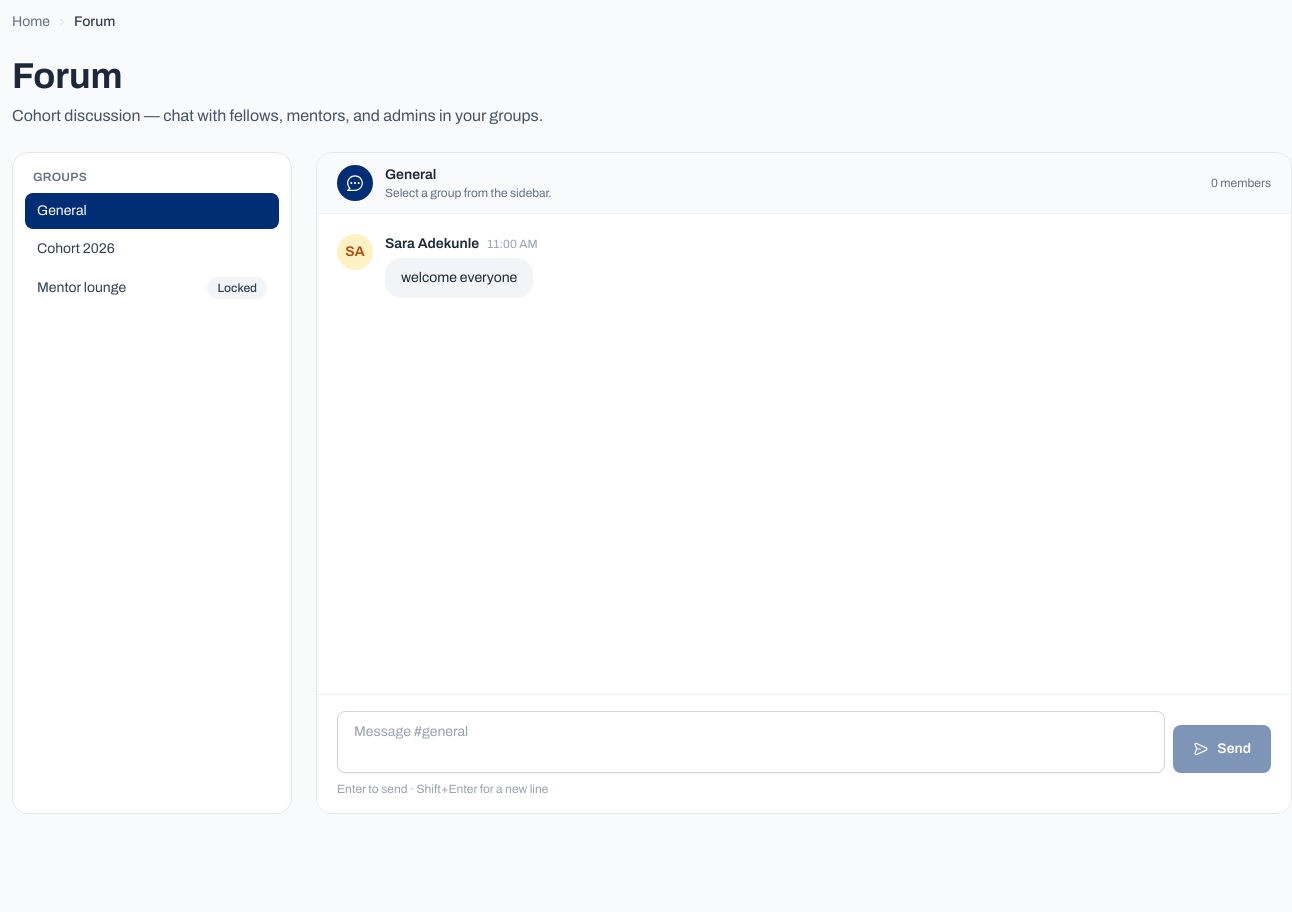
Test: ForumChat › appends sent messages to the bottom and clears the draft
Type "hi from Ada" into the text box with placeholder "Message #general" at (751, 742), box [337, 711, 1165, 773]
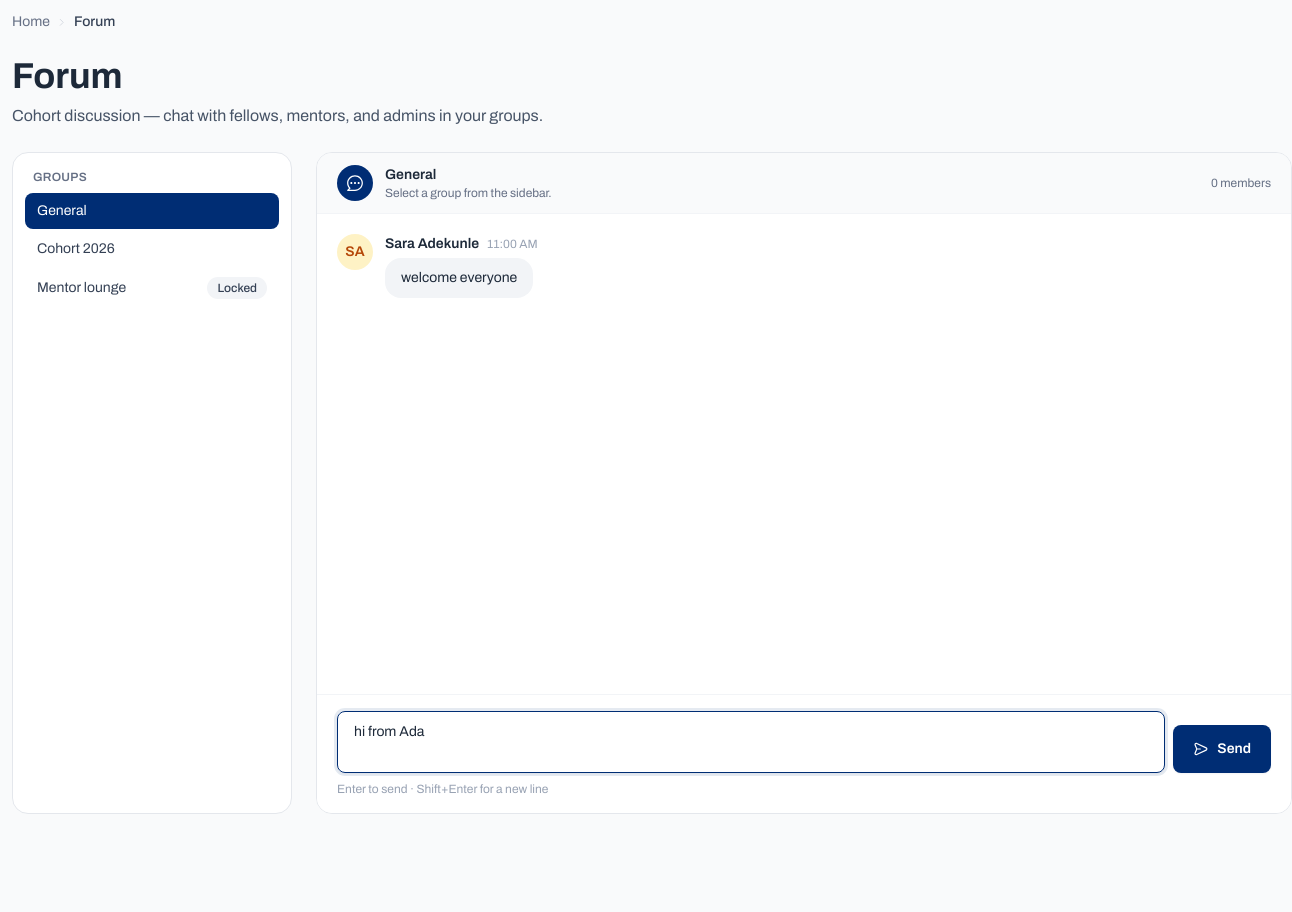
Click the button "Send" at (1222, 749), box [1173, 725, 1271, 773]
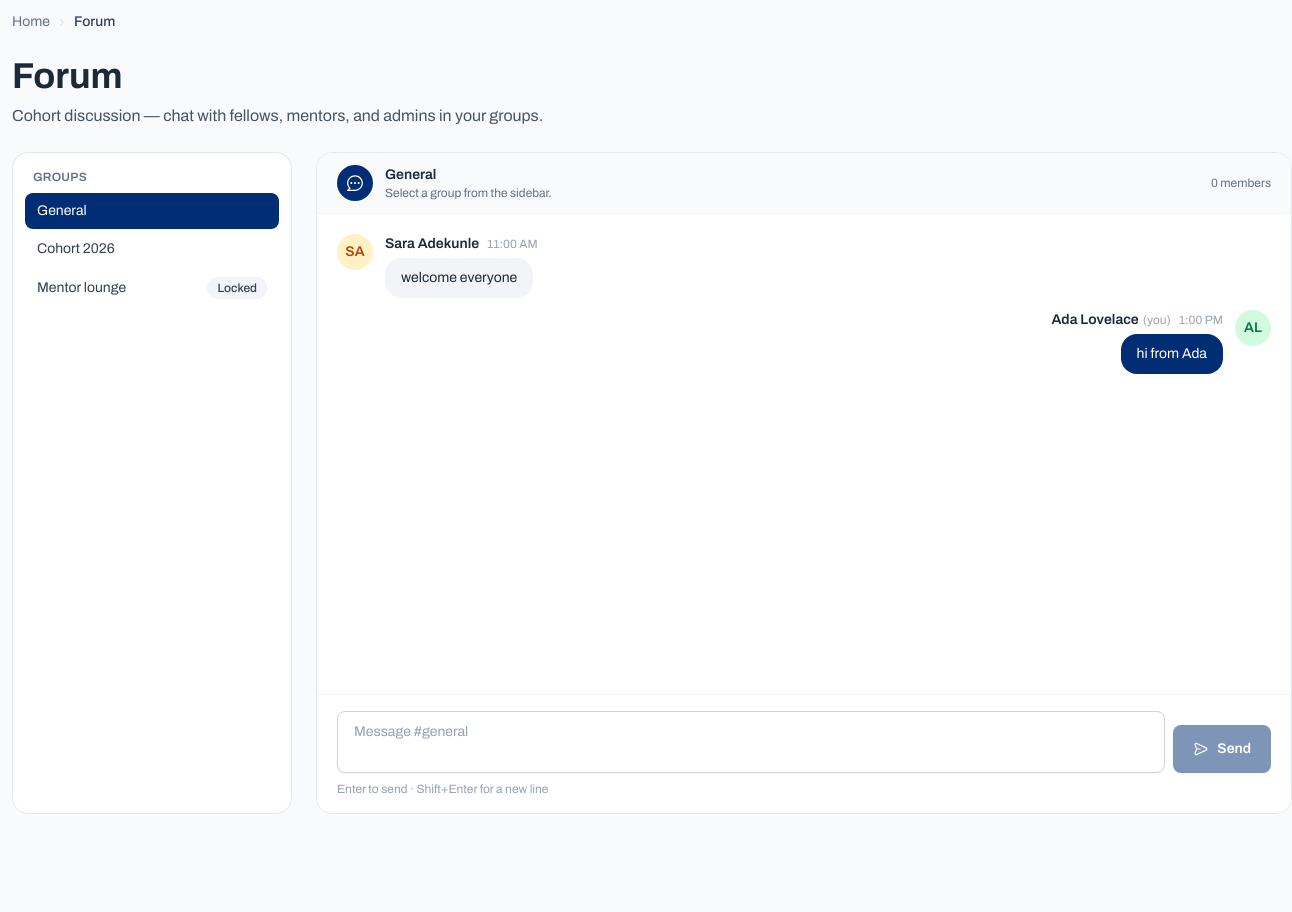
Now the text "hi from Ada" is shown, box [1120, 334, 1223, 374]
Now the text box with placeholder "Message #general" is empty, box [337, 711, 1165, 773]
